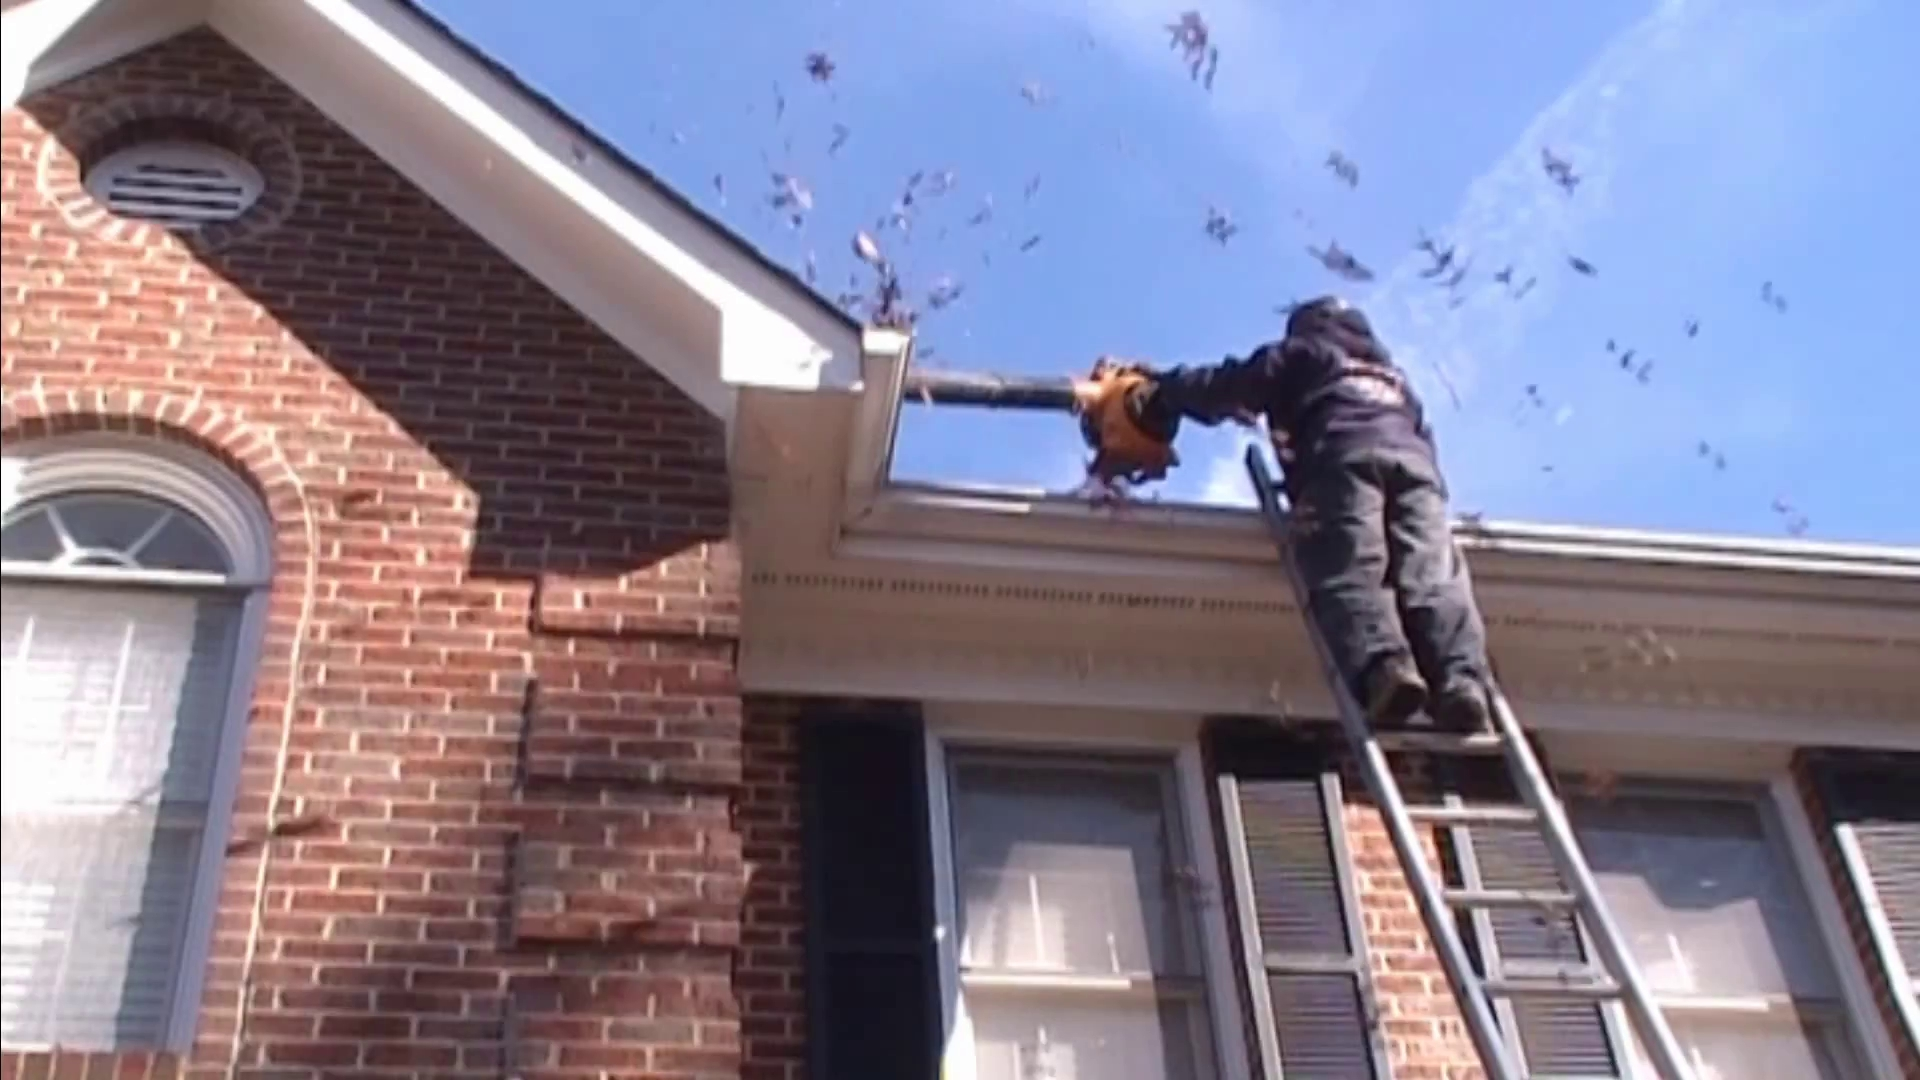person: (1152, 296, 1507, 731)
